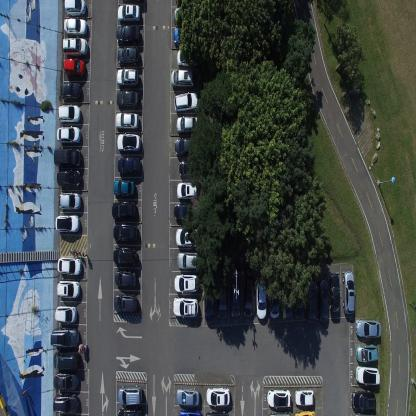car: (53, 146, 82, 168), (50, 327, 79, 348), (174, 135, 200, 157), (172, 295, 198, 317), (354, 317, 380, 339), (342, 270, 355, 314), (174, 90, 198, 113), (350, 388, 375, 410), (53, 391, 78, 413), (203, 274, 214, 322), (57, 102, 81, 124), (354, 364, 379, 385), (175, 226, 200, 247), (117, 384, 142, 405), (173, 7, 199, 27), (173, 26, 199, 46), (173, 273, 199, 293), (110, 200, 136, 220), (62, 36, 88, 56), (329, 272, 340, 318), (268, 276, 280, 318), (113, 246, 137, 267), (170, 68, 195, 88), (204, 386, 229, 406), (116, 24, 141, 44), (113, 223, 138, 243), (116, 132, 141, 152), (63, 16, 88, 36), (56, 124, 81, 144), (56, 169, 81, 189), (216, 275, 227, 320), (265, 388, 291, 407), (53, 372, 79, 391), (53, 351, 79, 370), (243, 274, 254, 318), (293, 273, 304, 317), (117, 156, 140, 177), (63, 57, 86, 78), (113, 292, 137, 312), (115, 110, 139, 130), (116, 89, 140, 109), (116, 46, 140, 66), (58, 191, 82, 211), (56, 279, 81, 298), (57, 256, 82, 275), (173, 202, 199, 220), (230, 277, 241, 319), (281, 275, 291, 321), (175, 386, 198, 406), (318, 278, 328, 324), (116, 67, 139, 87), (177, 251, 201, 270), (54, 304, 78, 323), (55, 214, 80, 232), (176, 114, 198, 134), (176, 48, 198, 68), (118, 2, 140, 22), (256, 276, 266, 320), (306, 279, 316, 323), (113, 178, 135, 198), (354, 344, 378, 362), (114, 270, 138, 288), (176, 180, 198, 199), (60, 82, 82, 101), (178, 160, 202, 176), (294, 388, 314, 406), (64, 0, 86, 15), (117, 407, 142, 415), (178, 408, 200, 416), (204, 409, 228, 415), (292, 410, 314, 415), (266, 411, 290, 415), (353, 411, 375, 415)
